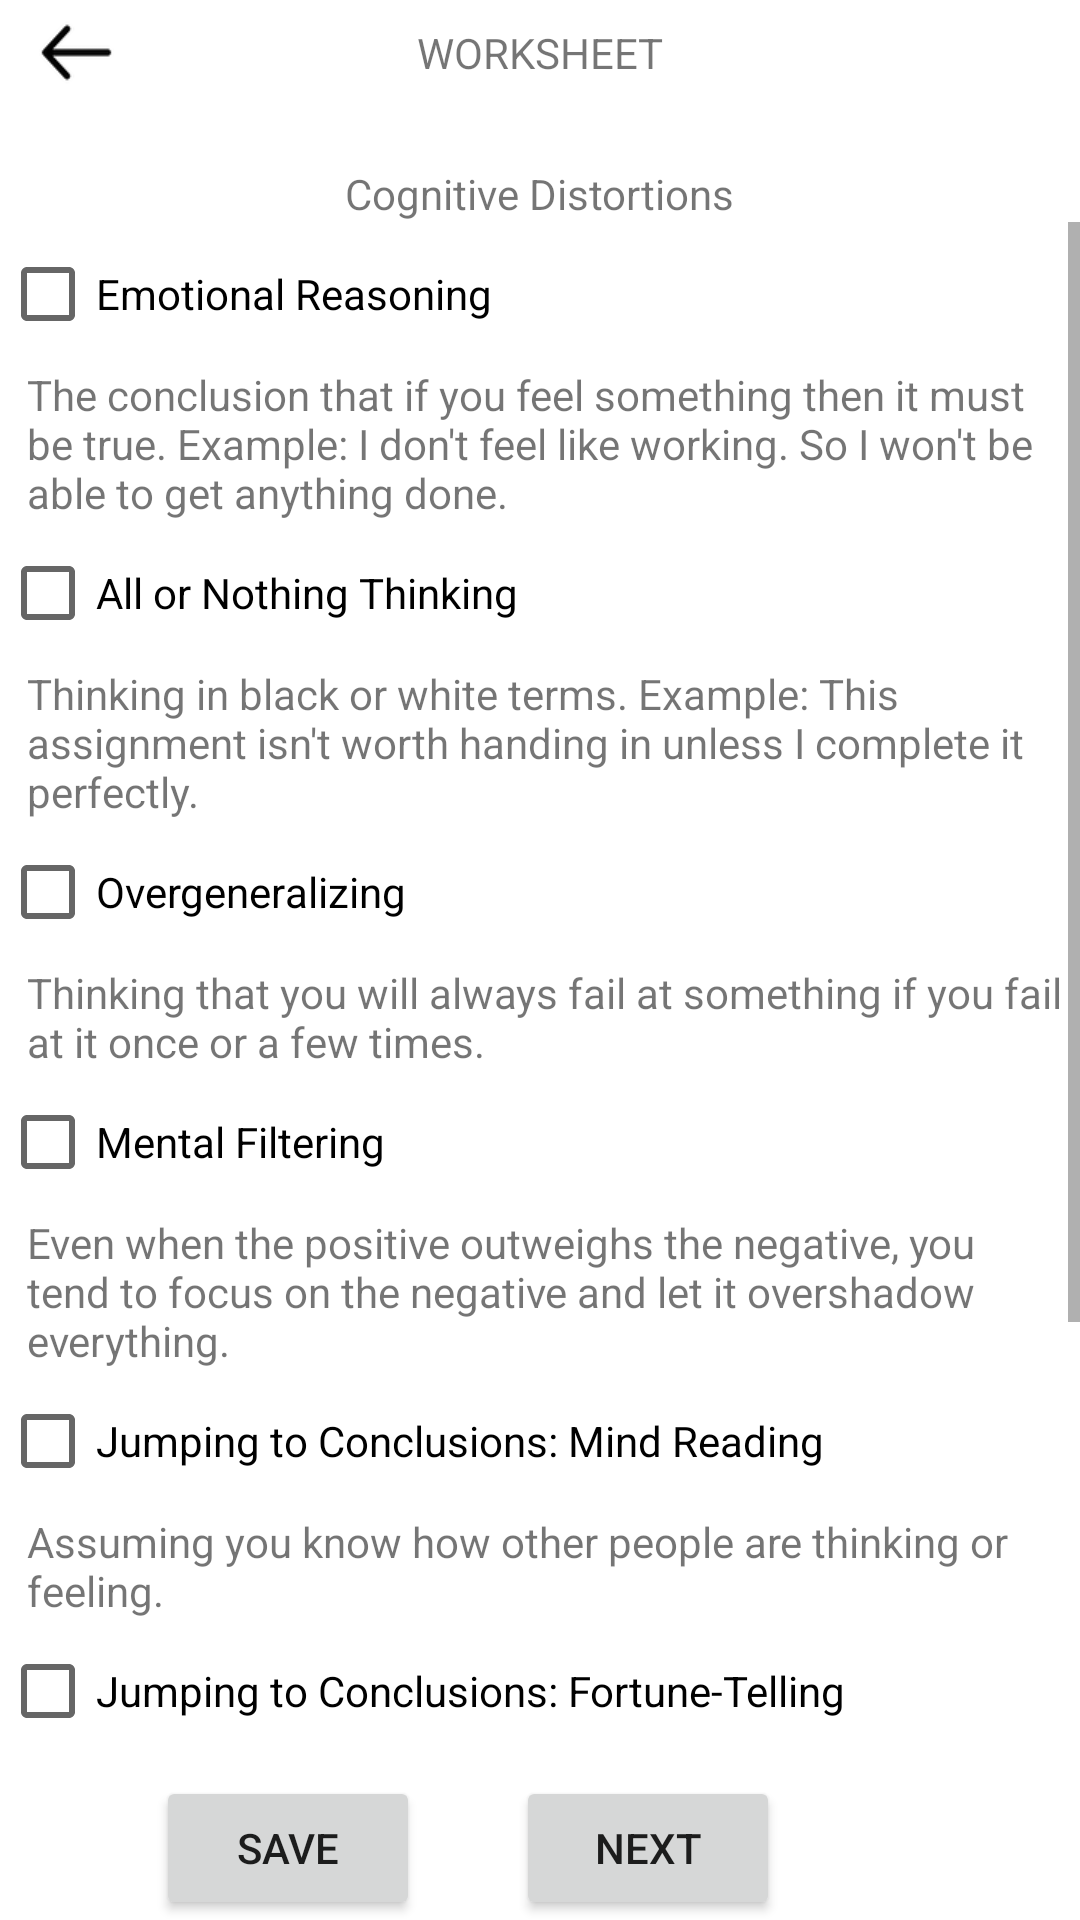

Where icons sit on this 1080*1920 app screen, as (x1,y1,x2,y2):
back: (41,24,112,81)
